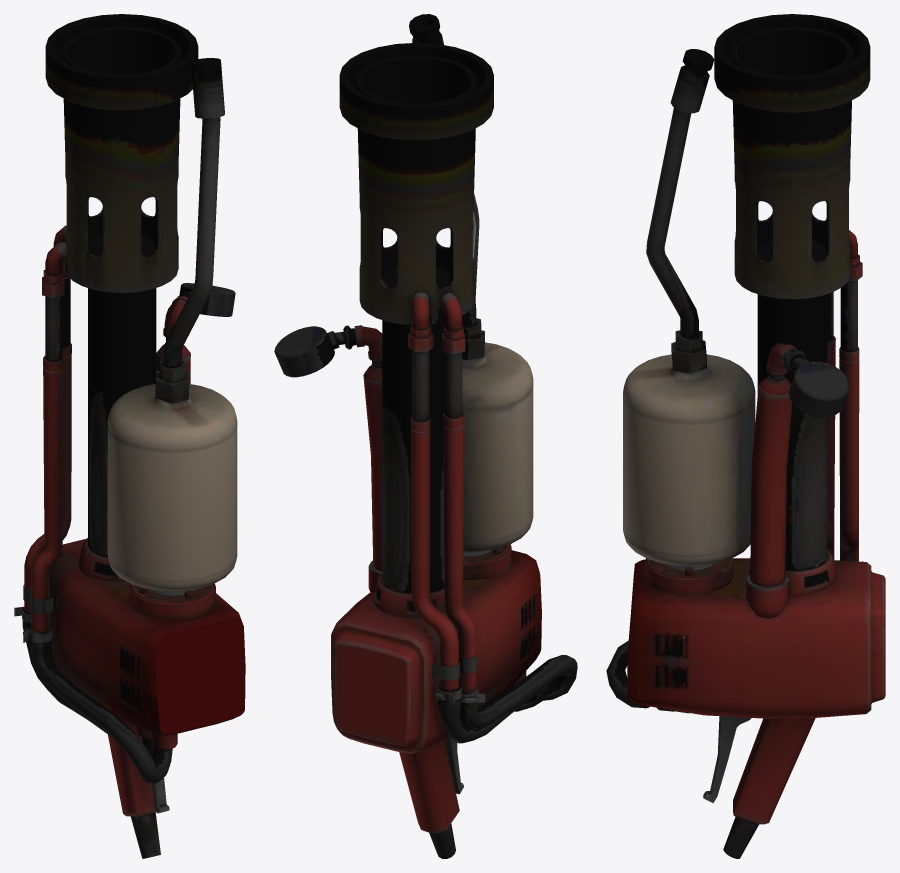
3 renders of one model, left to right at view 1: azimuth 30°, elevation 25°; view 2: azimuth 150°, elevation 25°; view 3: azimuth 270°, elevation 25°, orthographic. The views are drawn at different scales.
Visible parts, largest first — view 1: body0_model0_lod0_mesh0; view 2: body0_model0_lod0_mesh0; view 3: body0_model0_lod0_mesh0.
Boxes of the visible parts, <box> form: body0_model0_lod0_mesh0: <box>14,14,245,858</box>; body0_model0_lod0_mesh0: <box>274,14,577,858</box>; body0_model0_lod0_mesh0: <box>606,14,885,858</box>.
Size of the model in its own units: 18.67 by 69.5 by 21.36.
1 material, 1 textured.
